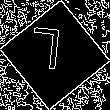L_S: (37, 28, 73, 82)
